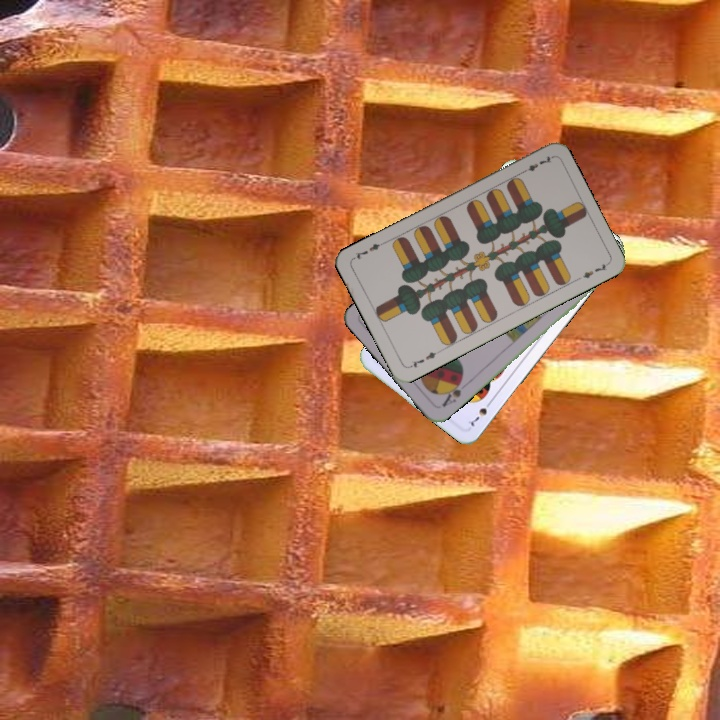E7: (405, 346, 443, 371), (517, 152, 555, 177)
S7: (464, 396, 495, 429)
SA: (438, 375, 465, 410)
